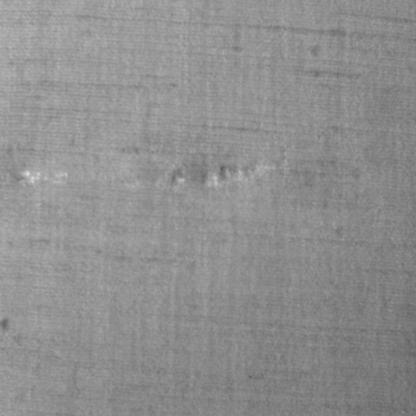thread error: (153, 153, 279, 191), (4, 161, 71, 190)
